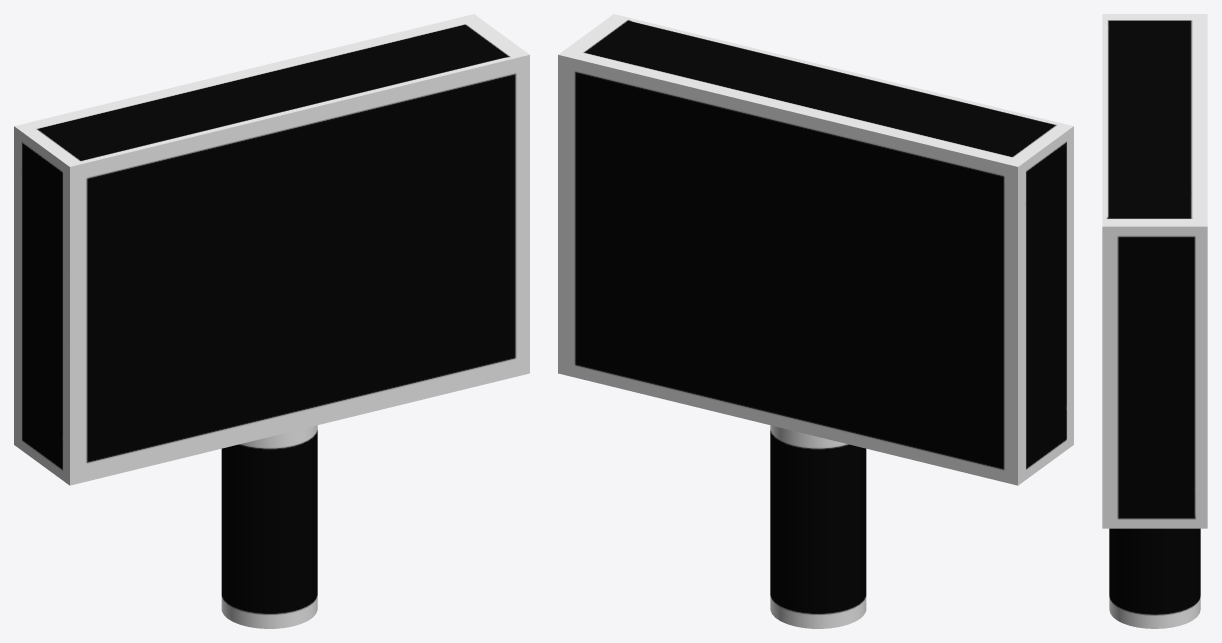
File: Sign.fbx
3 renders of one model, left to right at view 1: azimuth 30°, elevation 25°; view 2: azimuth 150°, elevation 25°; view 3: azimuth 270°, elevation 25°, orthographic. The views are drawn at different scales.
Parts seen in each view (by area): view 1: Cube, Cylinder; view 2: Cube, Cylinder; view 3: Cube, Cylinder.
Part boxes in pixels (bbox=[...]): Cube: bbox=[14, 14, 529, 485]; Cylinder: bbox=[221, 425, 317, 628]; Cube: bbox=[558, 14, 1073, 485]; Cylinder: bbox=[770, 425, 866, 628]; Cube: bbox=[1102, 14, 1207, 528]; Cylinder: bbox=[1109, 528, 1200, 628].
Size of the model in its own units: 311 by 334 by 65.26.
1 material, 1 textured.
